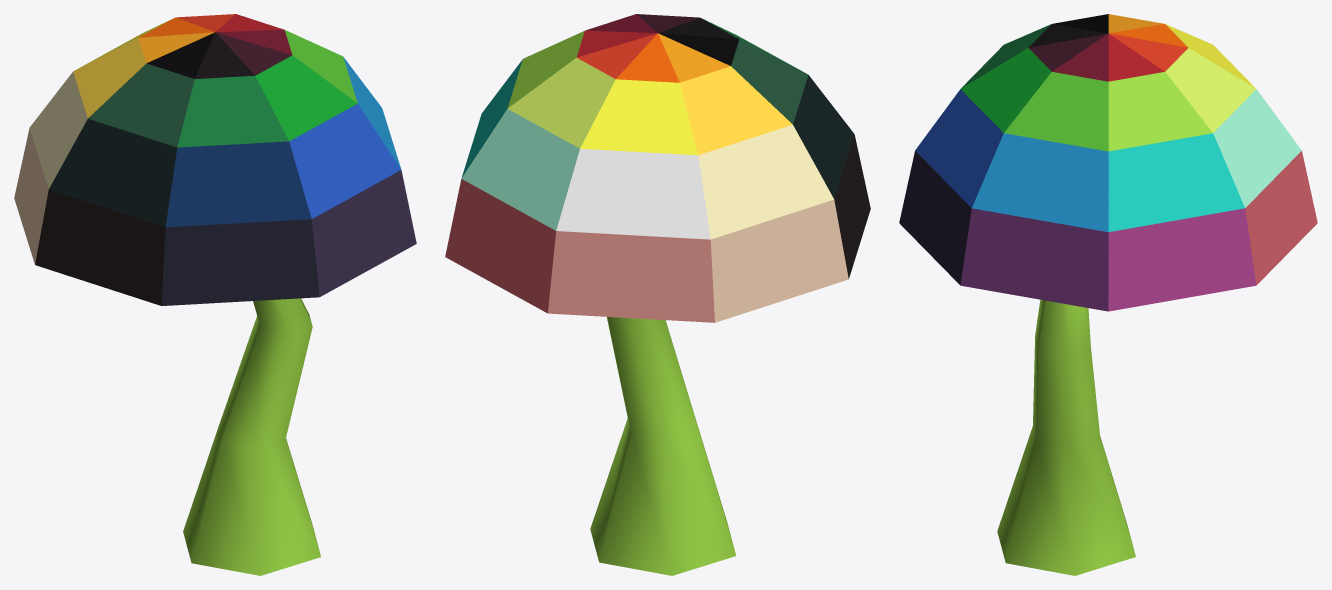
File: MM_Plant_C.fbx
3 renders of one model, left to right at view 1: azimuth 30°, elevation 25°; view 2: azimuth 150°, elevation 25°; view 3: azimuth 270°, elevation 25°, orthographic. The views are drawn at different scales.
Parts seen in each view (by area): view 1: Cylinder.011; view 2: Cylinder.011; view 3: Cylinder.011.
Boxes of the visible parts, left/top/right/bottom form: Cylinder.011: left=14, top=14, right=416, bottom=575; Cylinder.011: left=445, top=14, right=870, bottom=575; Cylinder.011: left=899, top=14, right=1317, bottom=575.
Bounding box in the file's own units: 20.86 × 27.65 × 20.86.
